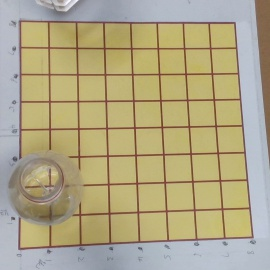bottle: (8, 151, 82, 226)
